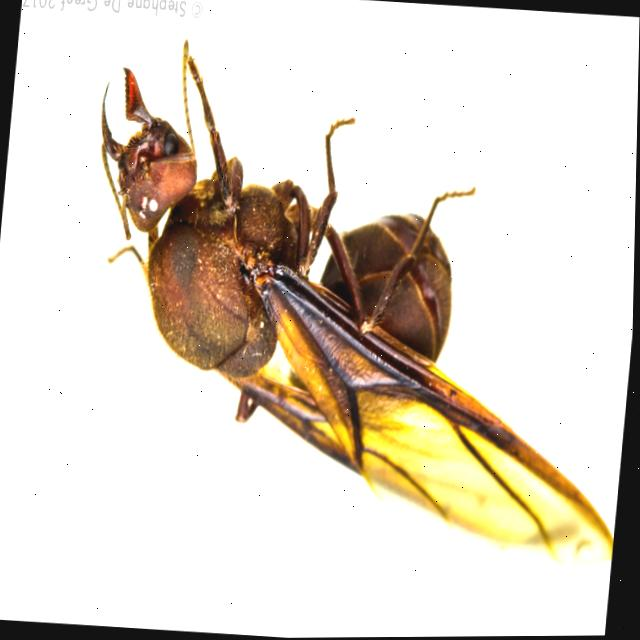Alive-Female-Alate: (63, 30, 639, 574)
